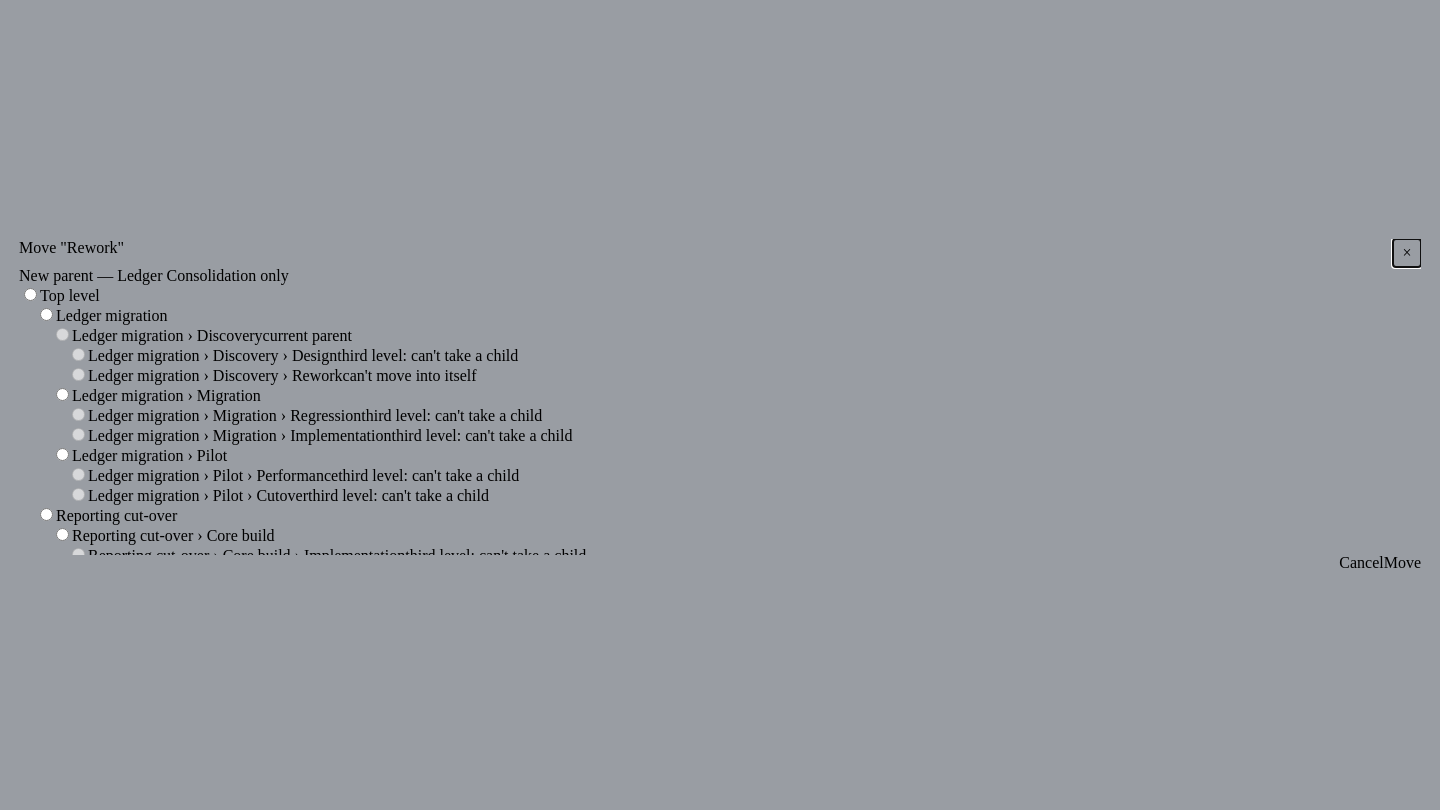
Test: MoveItem › asks for a choice instead of sending nothing
This screenshot has width=1440, height=810.
What coordinates should you click on to do the following:
click the button "Move"
I would click on:
 (1402, 563)
Its box is [1384,555,1421,571].
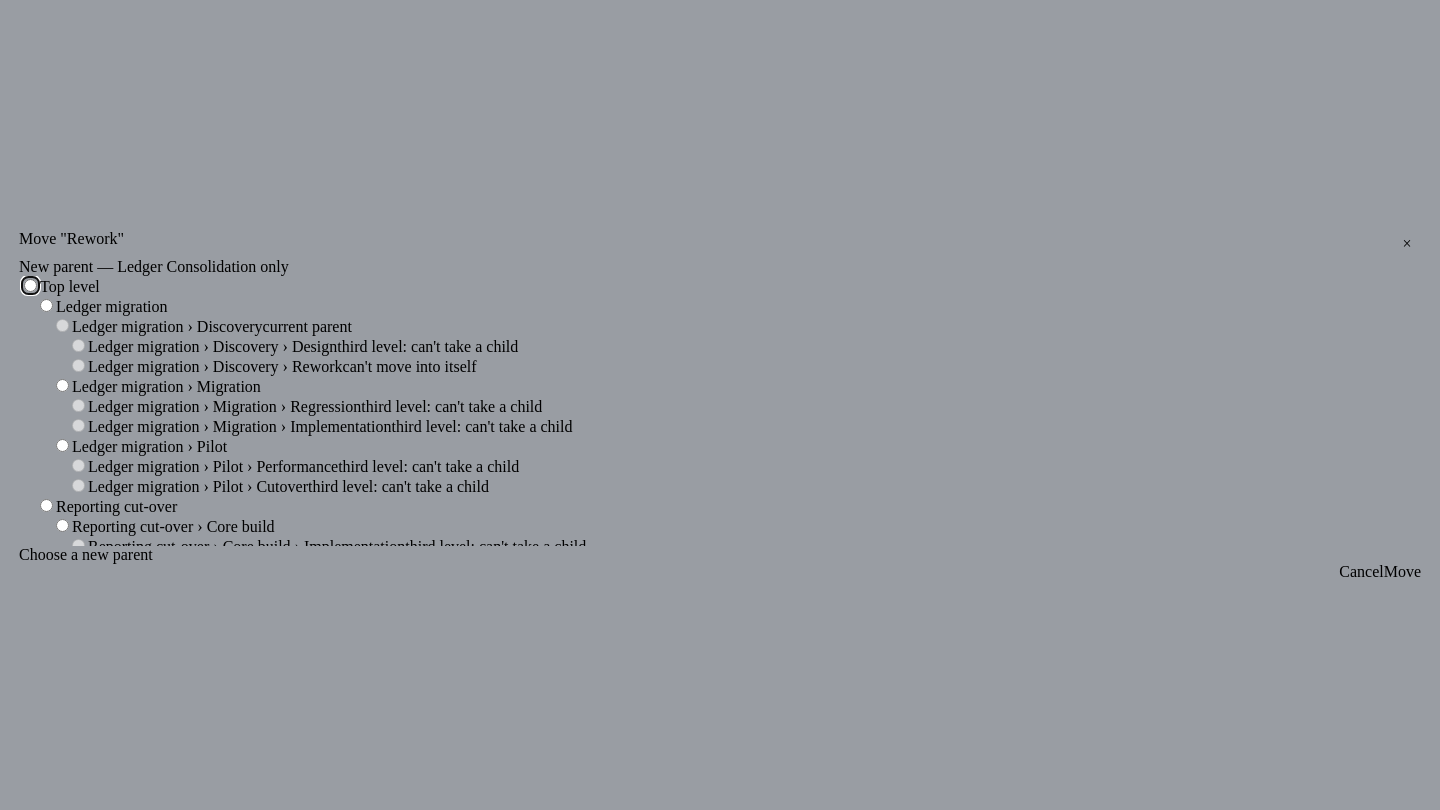
Result: the text "Choose a new parent" is shown at [19,546,153,563]
